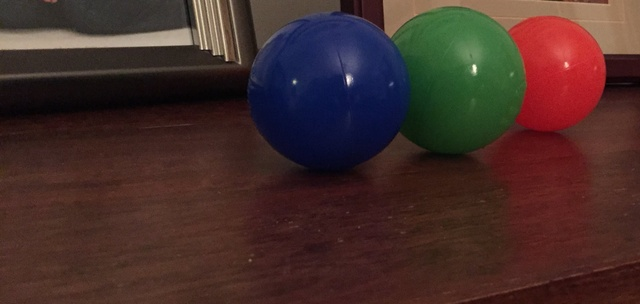Ball: (246, 16, 410, 166)
